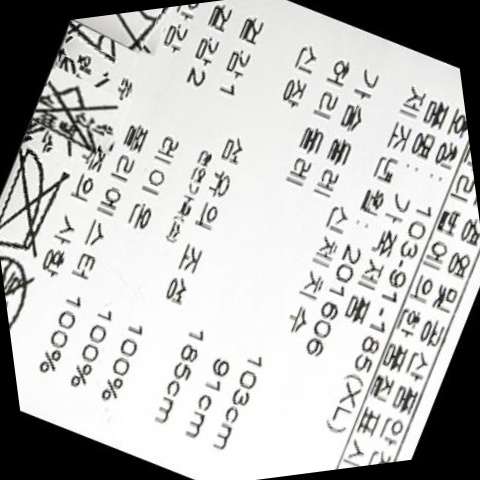DN_bleach: (27, 74, 120, 153)
DN_iron: (0, 153, 78, 254)
